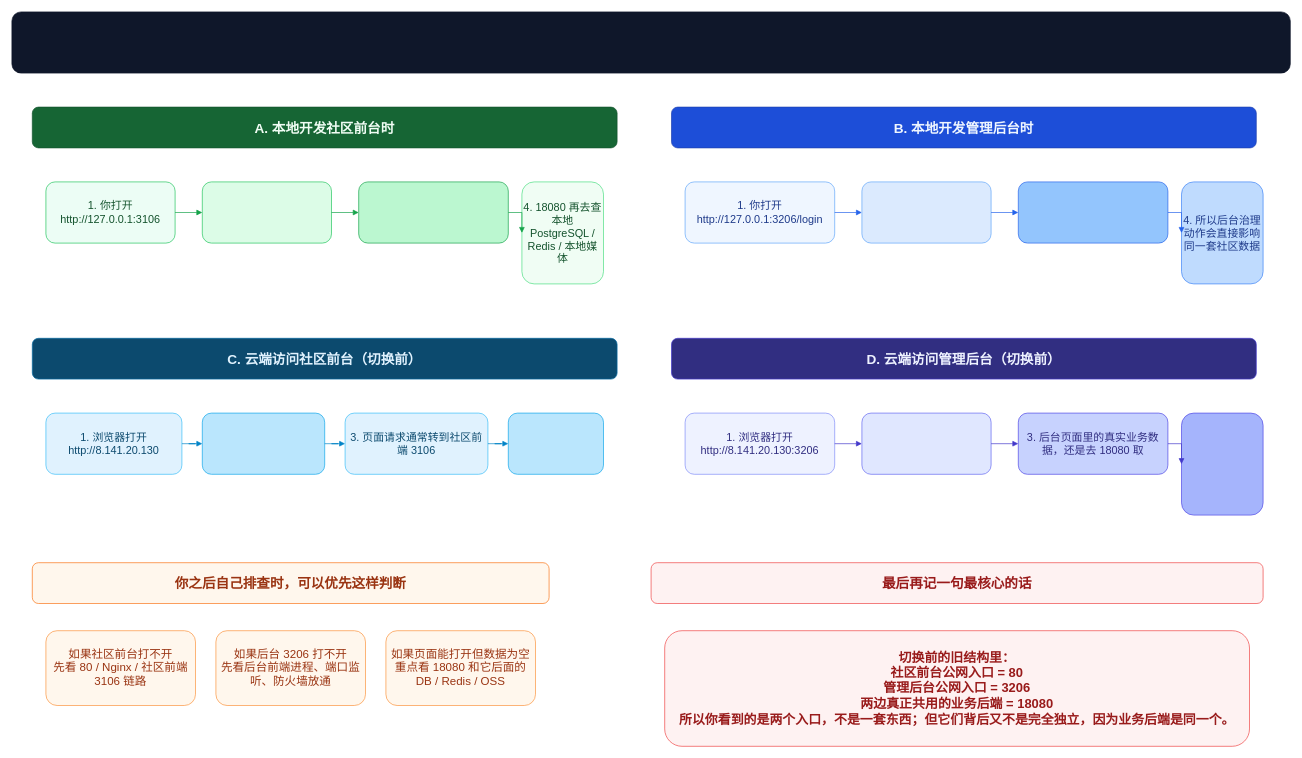
Image size: 1302x758. Some labels were removed from this diagram. Each missing label, with the centre of its shape:
"2. 先到云机上的 Nginx:80" belongs at (x=263, y=443).
"2. 直接命中后台前端服务 3206" belongs at (x=926, y=443).
"2. 页面来自 apps/admin 进程" belongs at (x=926, y=212).
"2. 页面来自 apps/web 进程" belongs at (x=267, y=212).
"3. 页面里的业务数据请求发给 18080" belongs at (x=433, y=212).
"3. 页面里的列表、详情、操作请求，同样发给 18080" belongs at (x=1093, y=212).
"4. API 和 media 再被转去 18080" belongs at (x=556, y=443).
"4. 所以它和社区前台其实是在共用同一套业务后端" belongs at (x=1222, y=463).
"典型访问路径和最容易混淆的点 把“你打开一个地址后，后面到底发生了什么”串起来看" belongs at (x=650, y=42).
